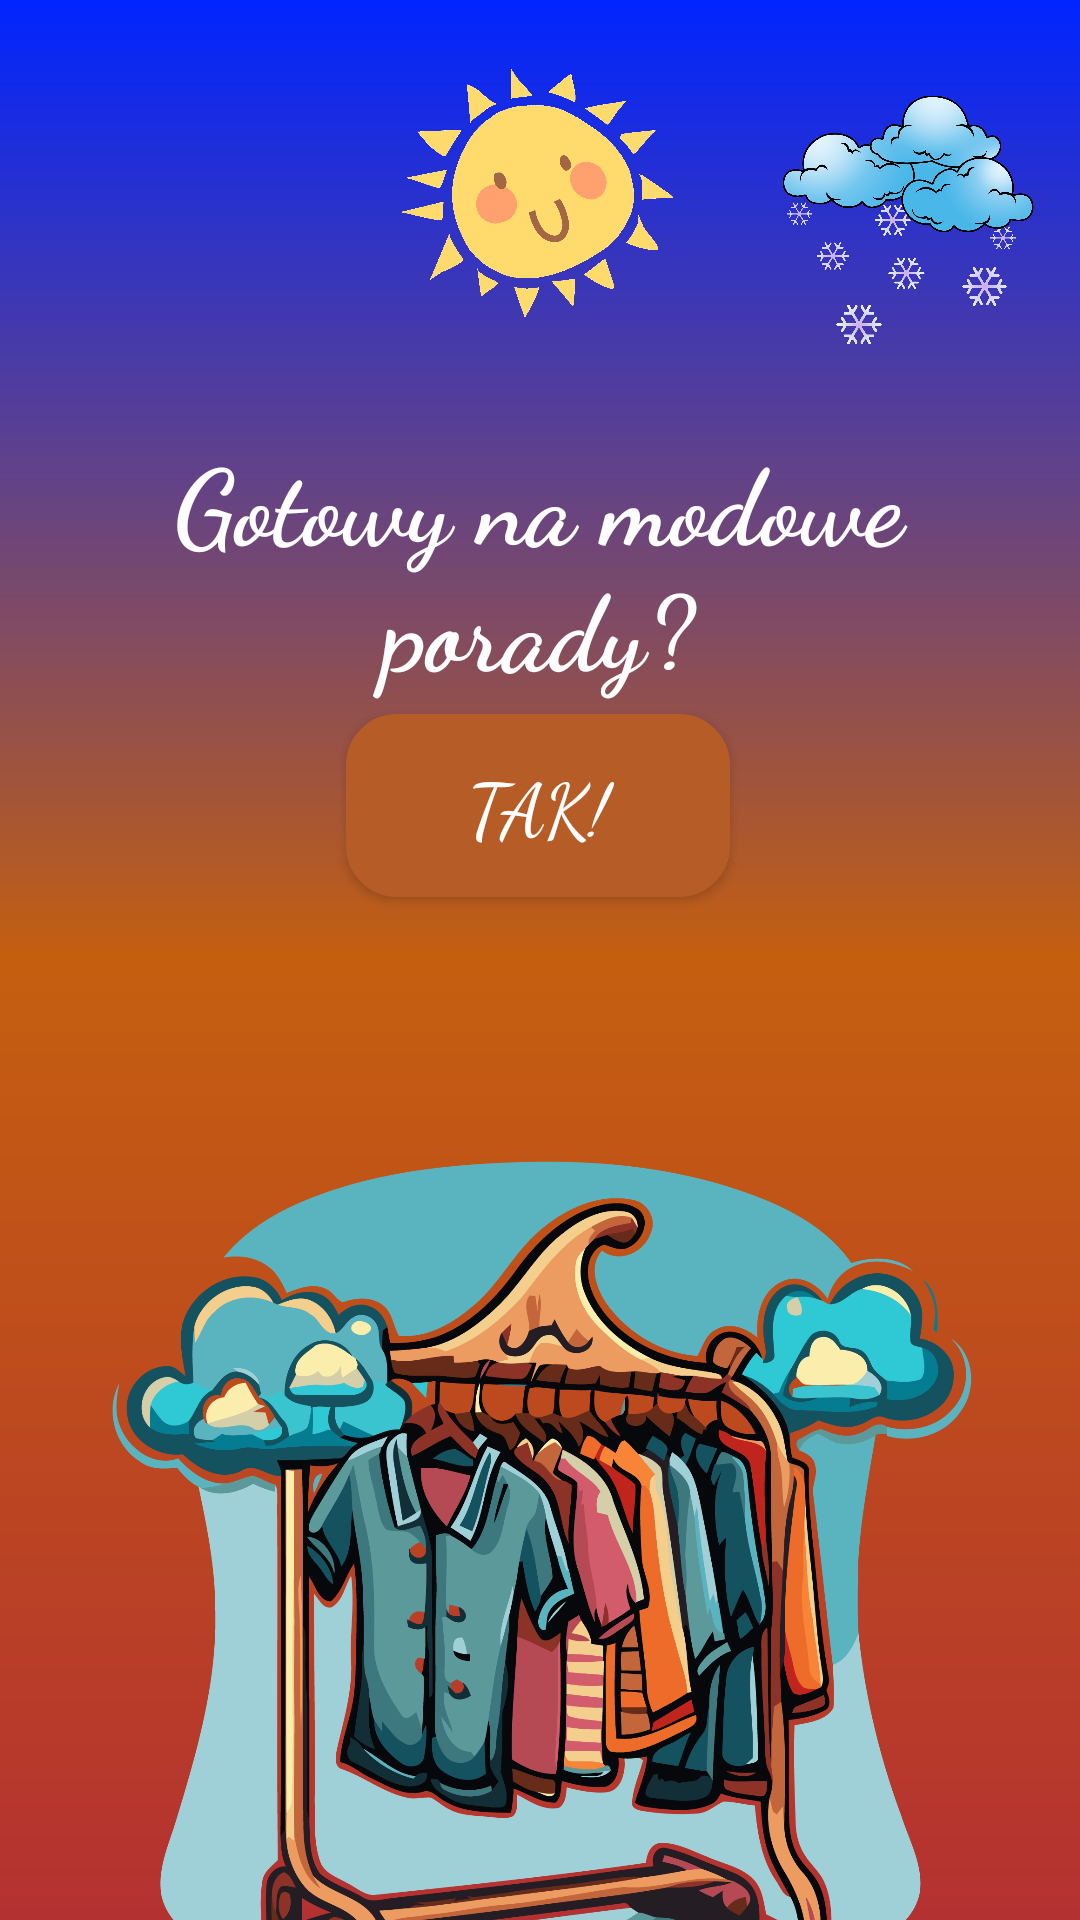

Icons on this 1080w x 1920h Android screen, each with the point to tap as (x=x, y=y):
snow: (x=909, y=234)
sun: (x=538, y=198)
